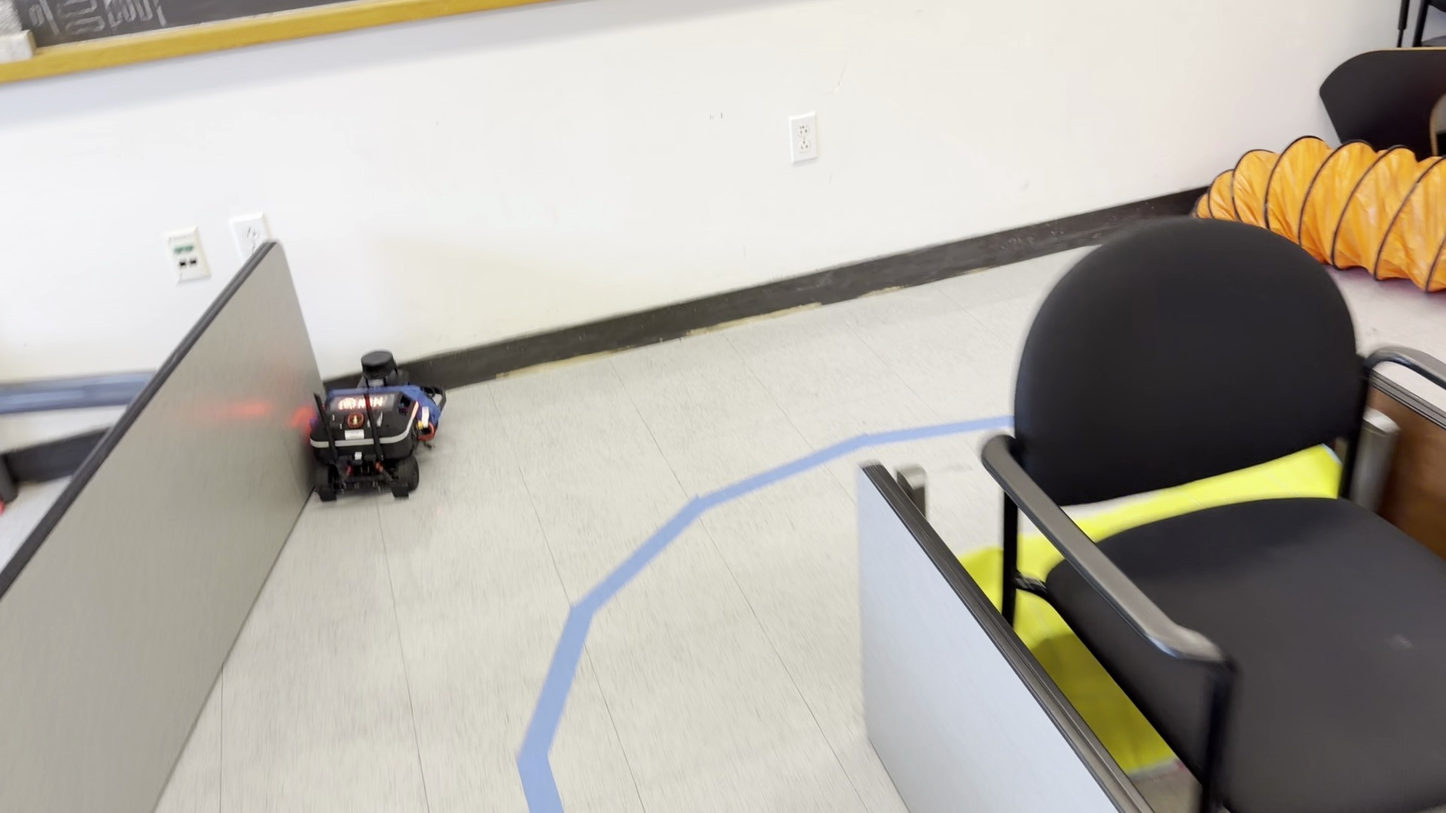racecar: (304, 348, 441, 498)
